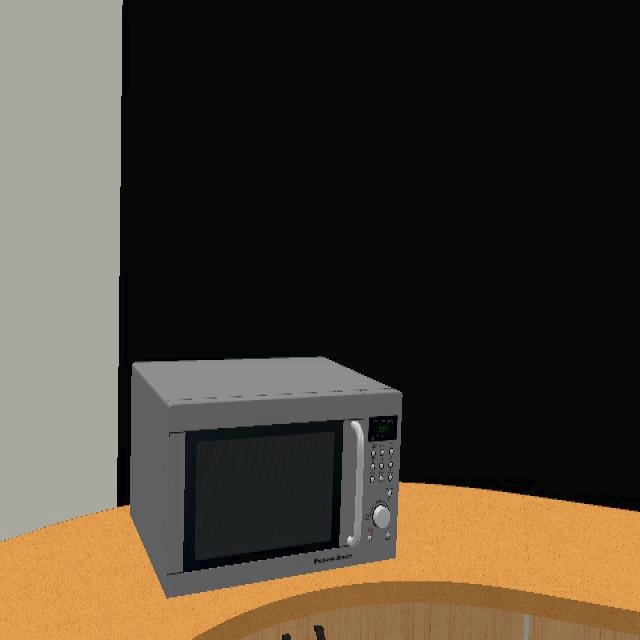countertop: (0, 484, 640, 640)
microwave: (130, 359, 403, 599)
